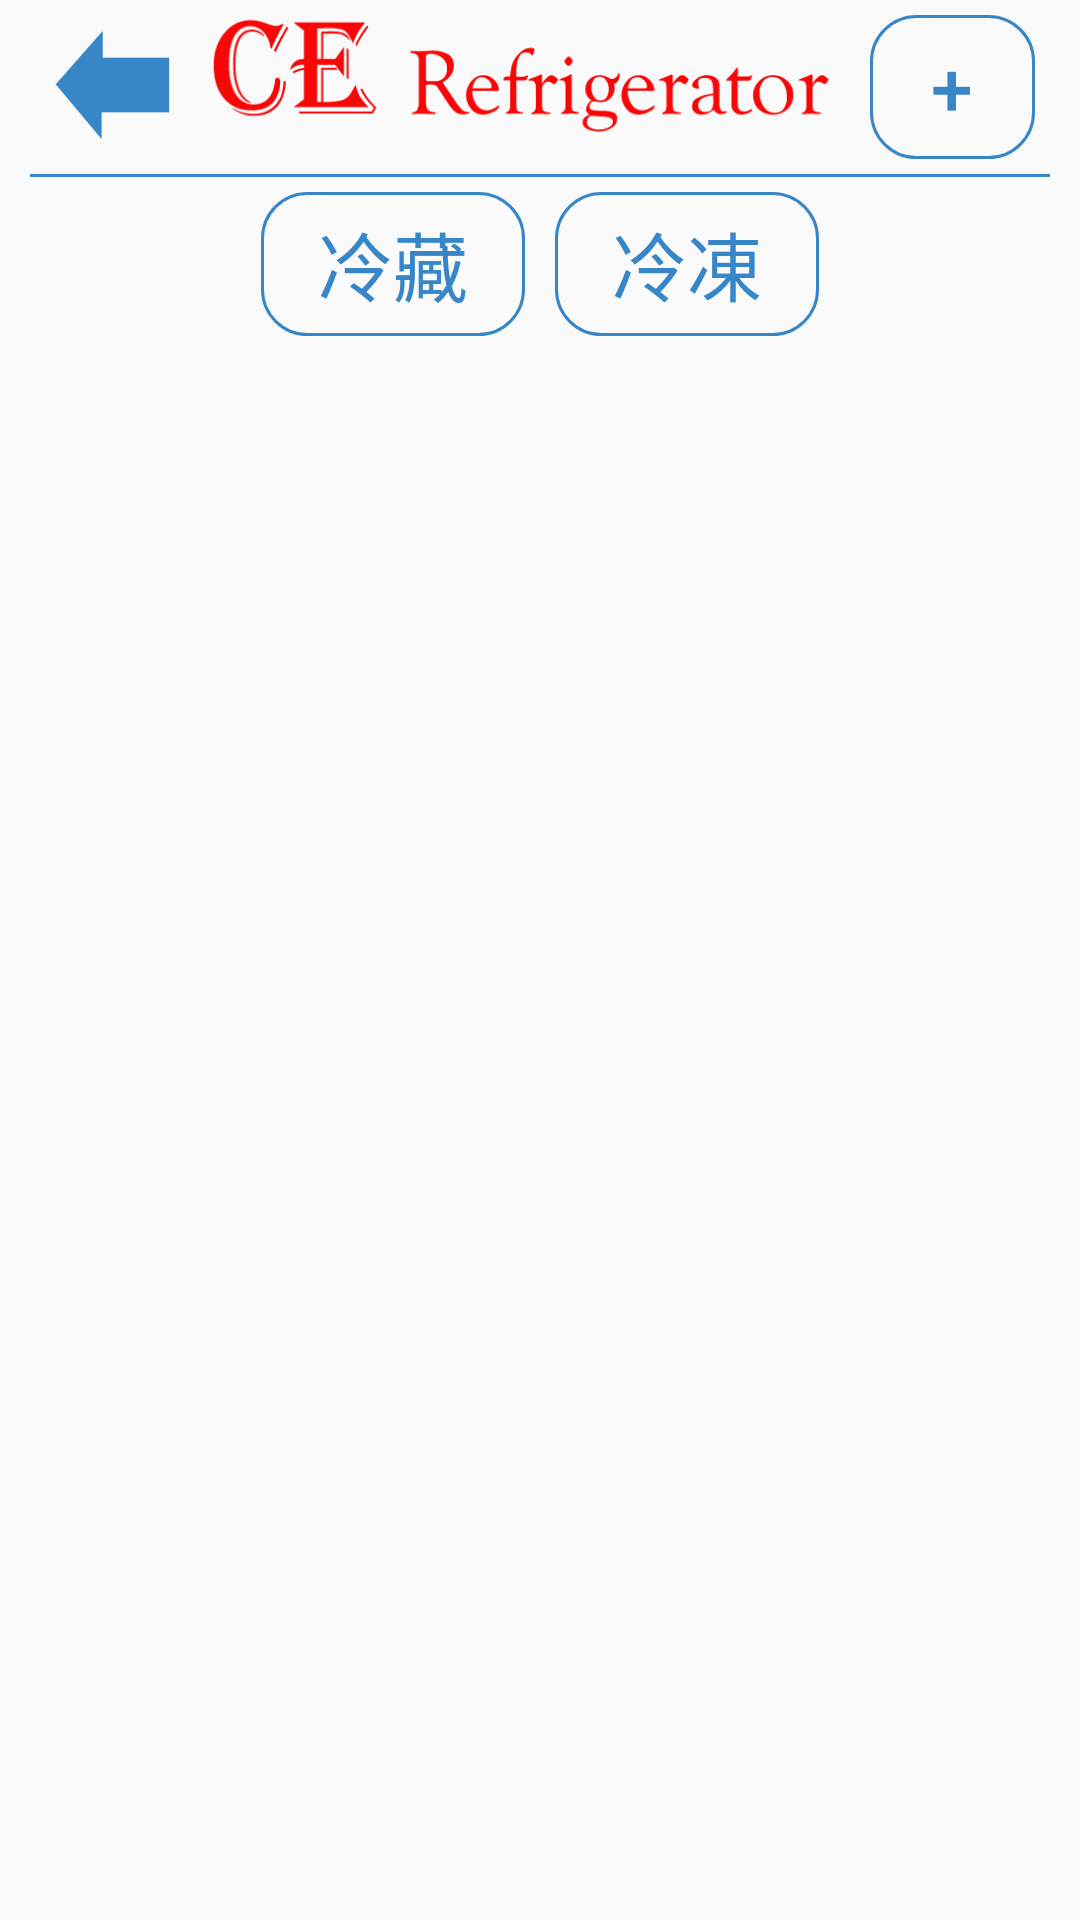

Icons on this 1080px×1920px Android screen, each with the point to tap as (x,y):
back: (112,85)
